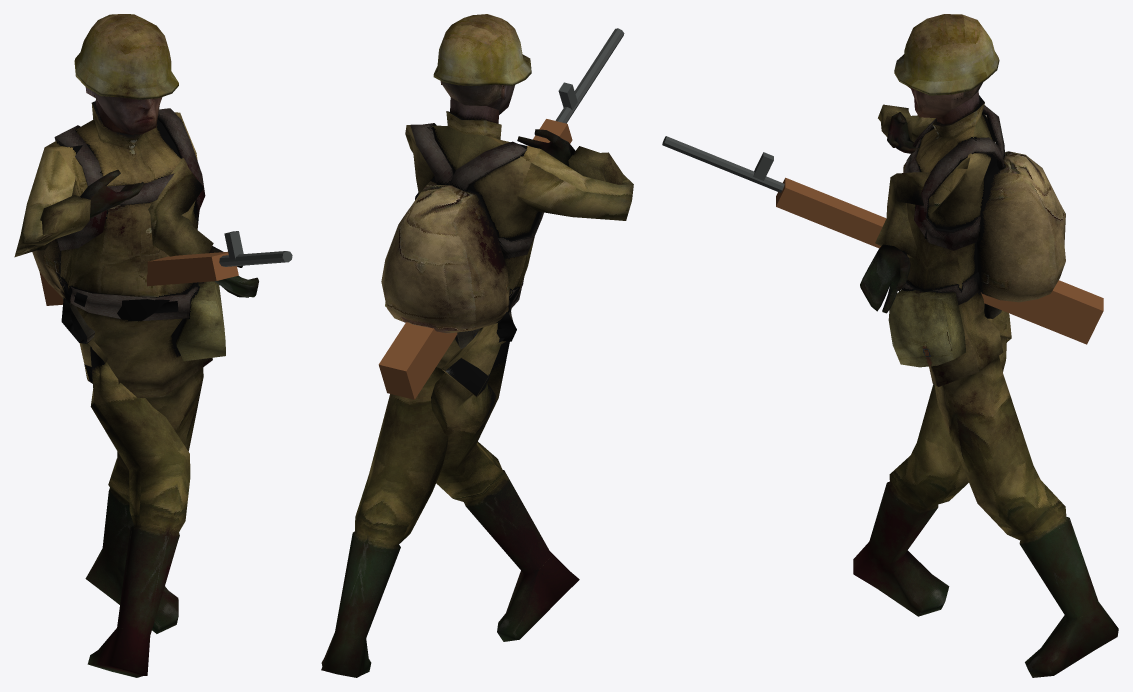
File: soviet_ww2_soldier_run_03.glb
The picture shows the model from 3 angles, left to right: view 1: azimuth 30°, elevation 25°; view 2: azimuth 150°, elevation 25°; view 3: azimuth 270°, elevation 25°; orthographic projection. The views are drawn at different scales.
Parts seen in each view (by area): view 1: final_Static, SovietRifle_Generated; view 2: final_Static, SovietRifle_Generated; view 3: final_Static, SovietRifle_Generated.
Boxes of the visible parts, left/top/right/bottom form: final_Static: left=14, top=14, right=258, bottom=677; SovietRifle_Generated: left=39, top=231, right=292, bottom=305; final_Static: left=321, top=14, right=633, bottom=677; SovietRifle_Generated: left=378, top=28, right=624, bottom=399; final_Static: left=853, top=14, right=1118, bottom=677; SovietRifle_Generated: left=662, top=136, right=1103, bottom=344.
Size of the model in its own units: 0.6714 by 1.77 by 1.18.
3 materials, 1 textured.
